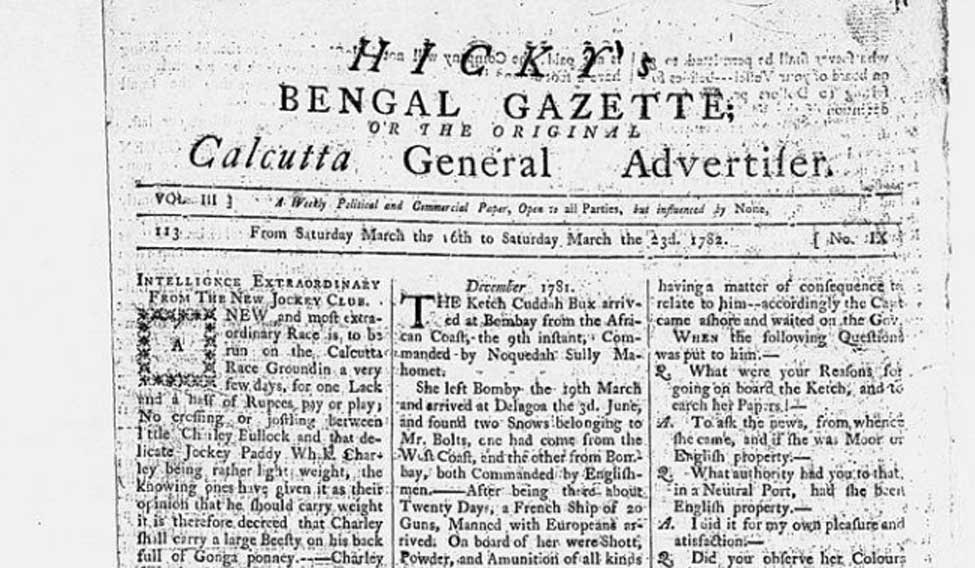news_paper: (85, 1, 960, 568)
